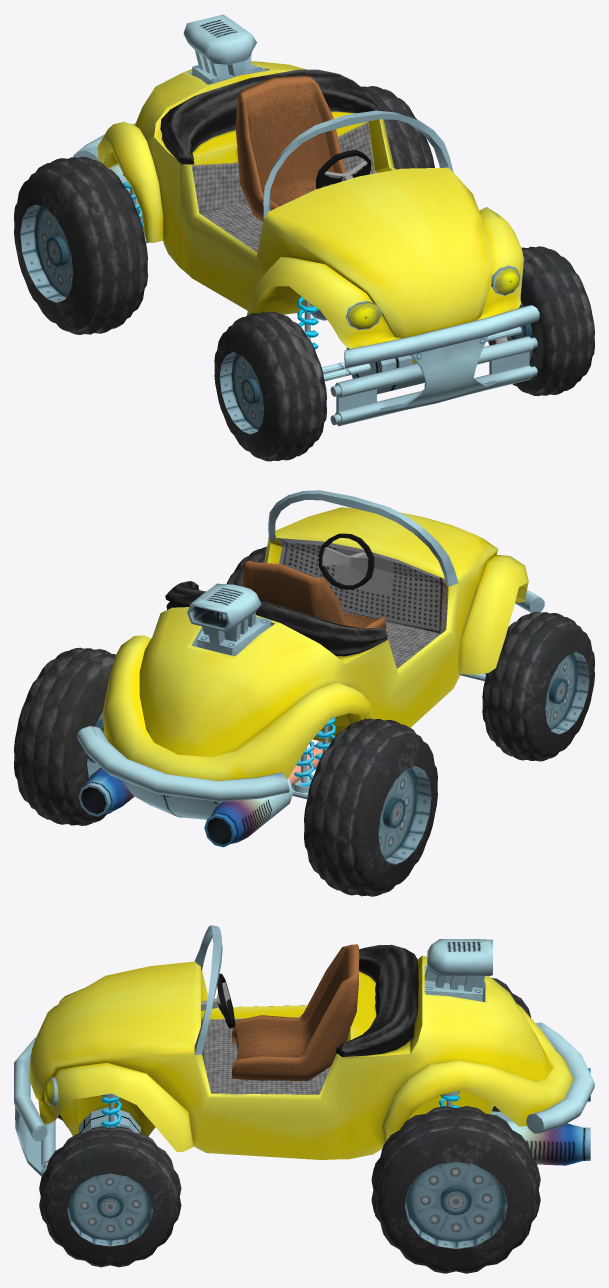
The model's file is Buggy004.fbx.
3 renders of one model, top to bottom at view 1: azimuth 30°, elevation 25°; view 2: azimuth 150°, elevation 25°; view 3: azimuth 270°, elevation 25°, orthographic. The views are drawn at different scales.
Parts seen in each view (by area): view 1: buggy04:Buggy_Chasis, buggy04:Buggy_Wheel_backR, buggy04:Buggy_Wheel_frontR, buggy04:Buggy_Seat, buggy04:Buggy_Wheel_frontL, buggy04:Buggy_Wheel_backL, buggy04:Buggy_Steering; view 2: buggy04:Buggy_Chasis, buggy04:Buggy_Wheel_backR, buggy04:Buggy_Wheel_frontR, buggy04:Buggy_Wheel_backL, buggy04:Buggy_Seat, buggy04:Buggy_Steering; view 3: buggy04:Buggy_Chasis, buggy04:Buggy_Wheel_backL, buggy04:Buggy_Wheel_frontL, buggy04:Buggy_Seat, buggy04:Buggy_Steering.
Boxes of the visible parts, left/top/right/bottom form: buggy04:Buggy_Chasis: left=73, top=14, right=539, bottom=426; buggy04:Buggy_Wheel_backR: left=14, top=156, right=147, bottom=334; buggy04:Buggy_Wheel_frontR: left=214, top=311, right=326, bottom=461; buggy04:Buggy_Seat: left=235, top=75, right=346, bottom=221; buggy04:Buggy_Wheel_frontL: left=488, top=246, right=594, bottom=395; buggy04:Buggy_Wheel_backL: left=361, top=86, right=434, bottom=169; buggy04:Buggy_Steering: left=316, top=149, right=371, bottom=188; buggy04:Buggy_Chasis: left=77, top=490, right=544, bottom=847; buggy04:Buggy_Wheel_backR: left=304, top=718, right=437, bottom=896; buggy04:Buggy_Wheel_frontR: left=482, top=611, right=594, bottom=761; buggy04:Buggy_Wheel_backL: left=14, top=647, right=115, bottom=825; buggy04:Buggy_Seat: left=242, top=560, right=385, bottom=630; buggy04:Buggy_Steering: left=319, top=533, right=374, bottom=589; buggy04:Buggy_Chasis: left=14, top=925, right=594, bottom=1177; buggy04:Buggy_Wheel_backL: left=371, top=1106, right=540, bottom=1273; buggy04:Buggy_Wheel_frontL: left=39, top=1126, right=181, bottom=1267; buggy04:Buggy_Seat: left=232, top=944, right=359, bottom=1080; buggy04:Buggy_Steering: left=201, top=973, right=235, bottom=1028.
Size of the model in its own units: 257 by 182 by 372.
